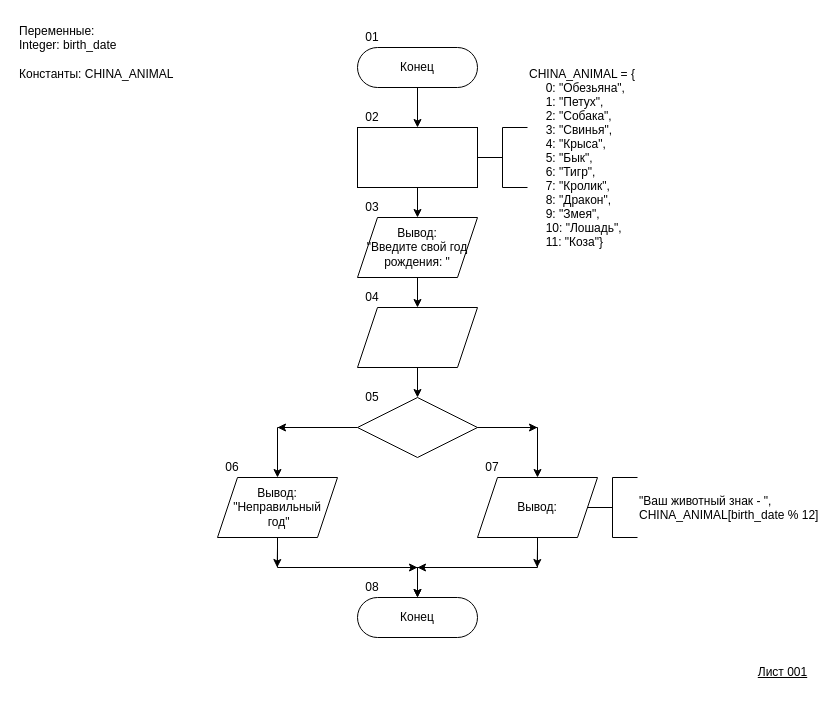
Some shapes in this 836 by 704 pixel diagram are drawn without their labels. The shapes that lost their labels are listed below. From the top down, each one's box as (x1, y1, x2, y2) in pixels, then its label:
(356, 306, 478, 368): Ввод: birth_date
(356, 396, 478, 458): birth_date > 0
